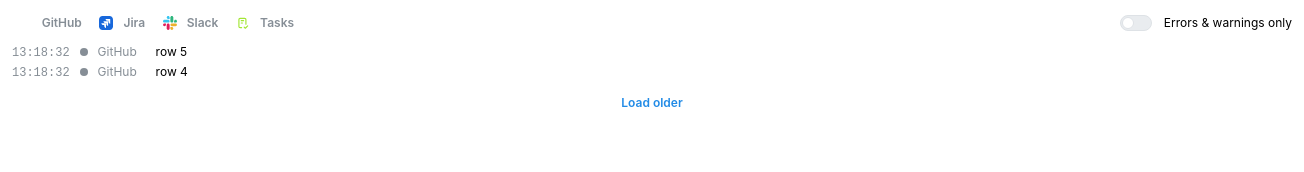
Test case: LogTab › load older uses before_id
Click the button "Load older": (652, 103) x1=613 y1=92 x2=691 y2=114
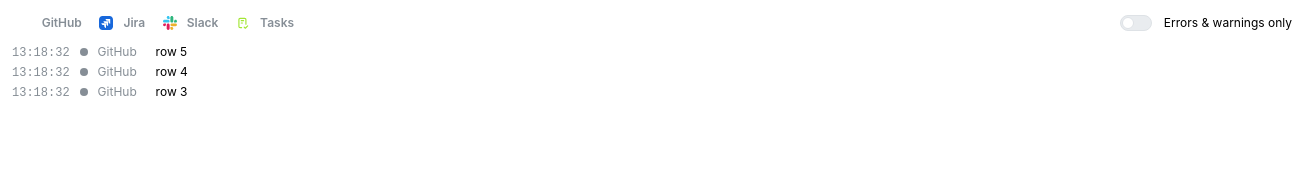
Check: the text "row 3" is shown, box x1=156 y1=84 x2=188 y2=100
